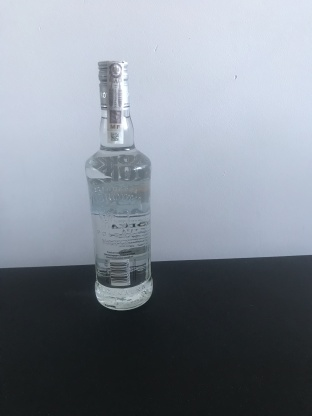nakretka: (95, 55, 131, 111)
